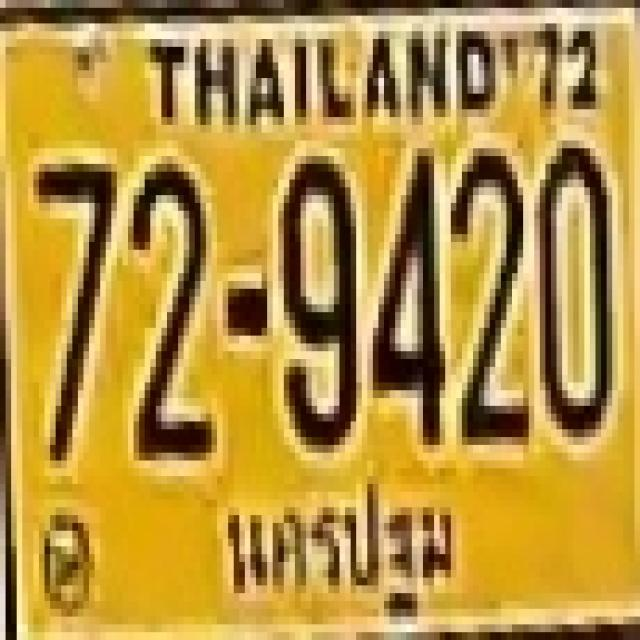0: (537, 140, 609, 430)
2: (128, 160, 219, 459), (451, 148, 523, 422)
4: (367, 144, 440, 441)
7: (34, 156, 112, 453)
9: (278, 148, 351, 445)
NPT: (218, 480, 460, 626)
